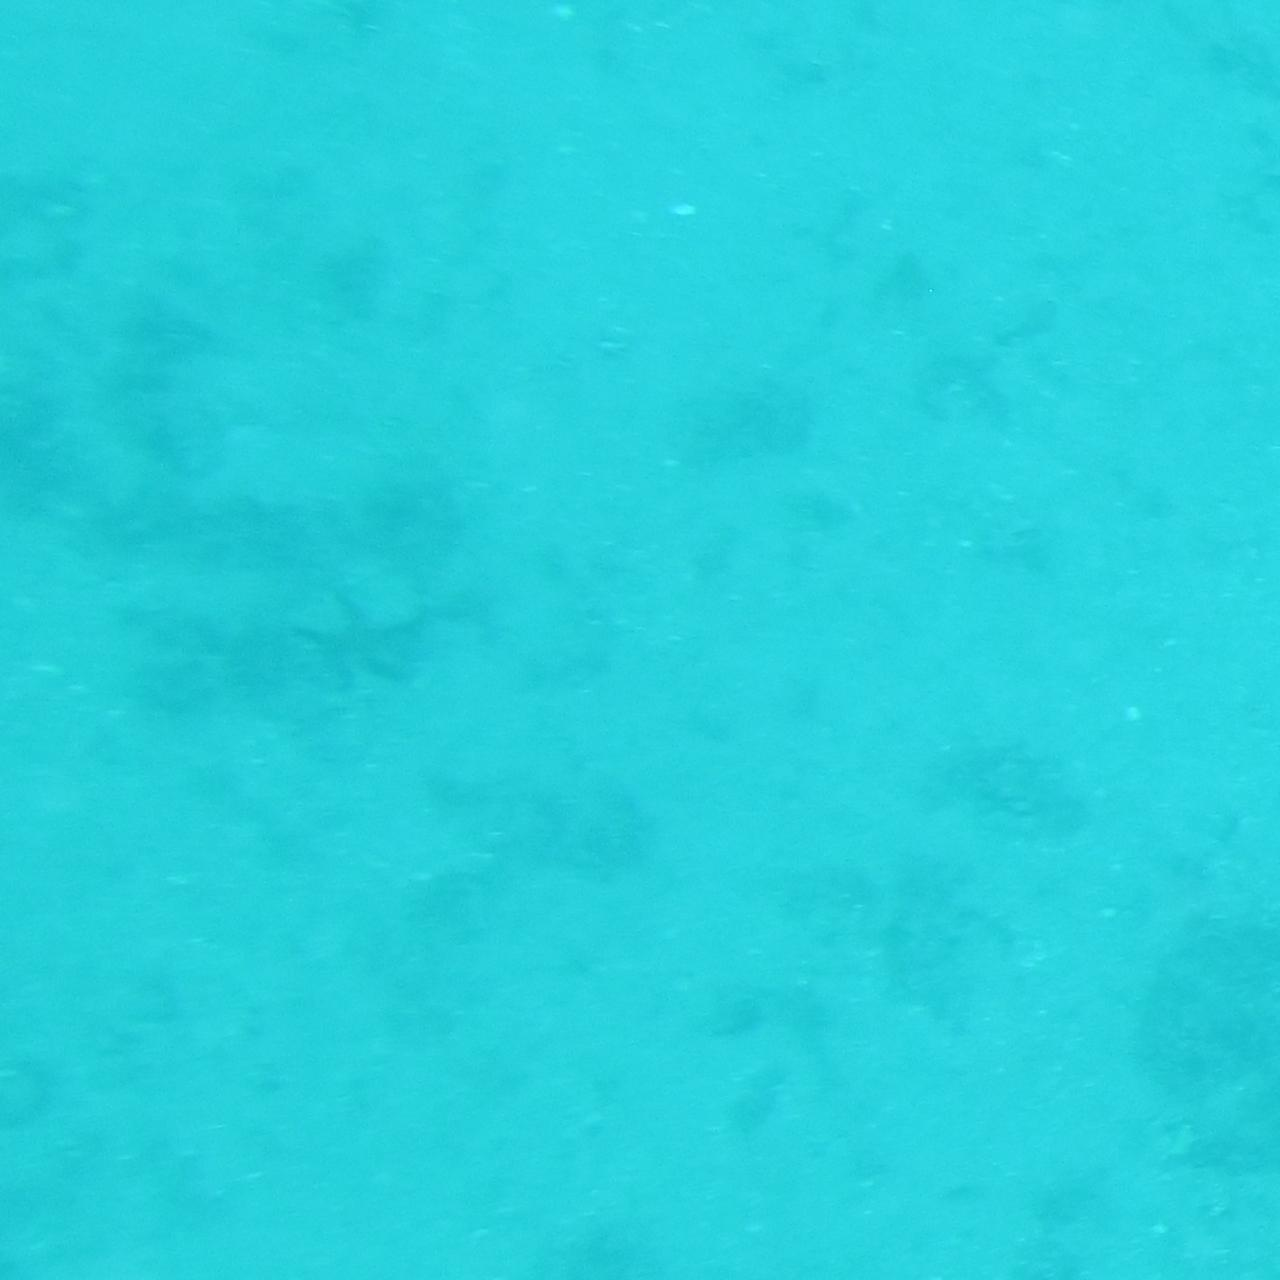Asteroidea: (280, 568, 445, 712)
